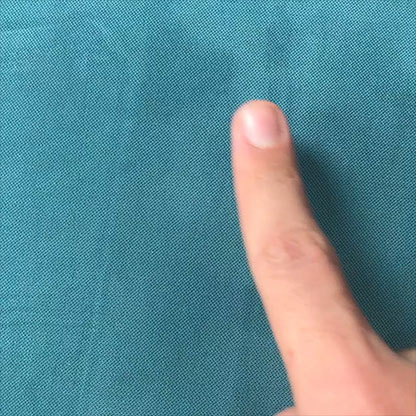fingertip: (217, 85, 299, 161)
